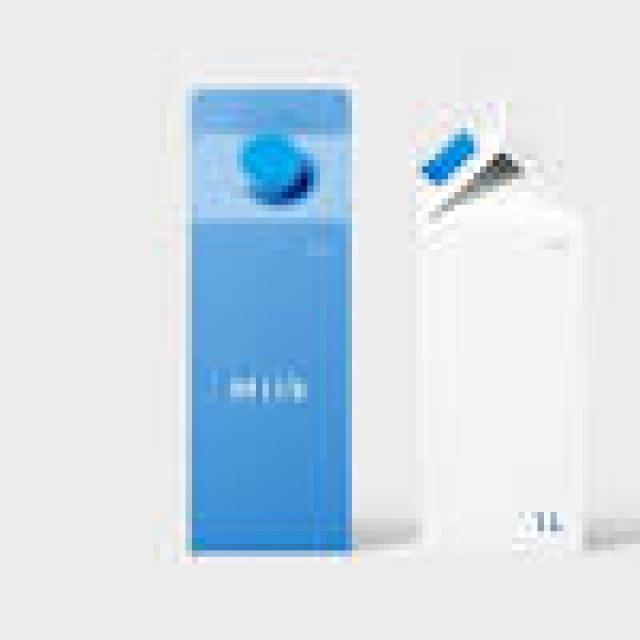non_white_jug: (173, 74, 371, 560), (400, 115, 586, 563)
